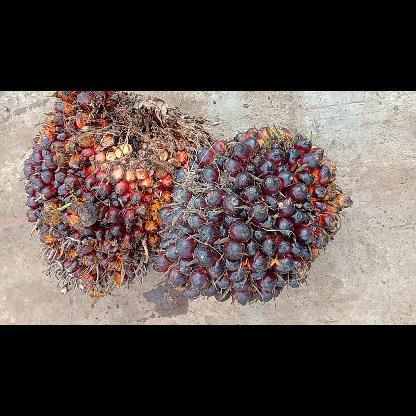TBS masak: (21, 91, 212, 297)
TBS mentah: (152, 124, 352, 304)
